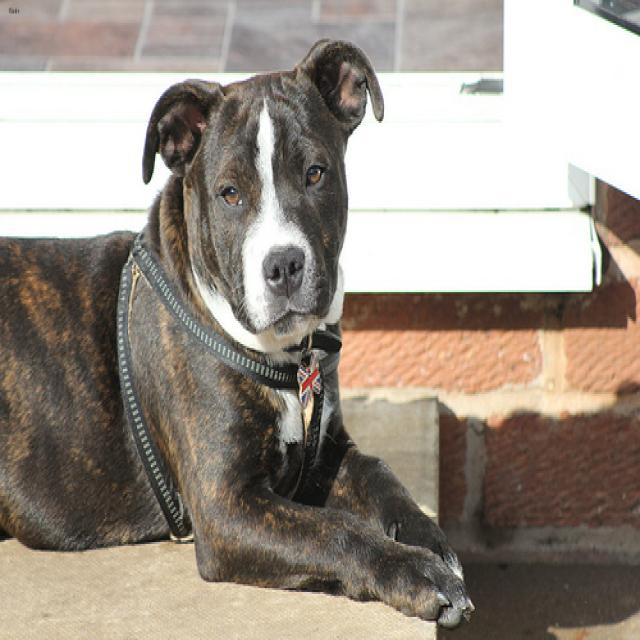dog-staffordshire_bull_terrier: (1, 25, 483, 634)
